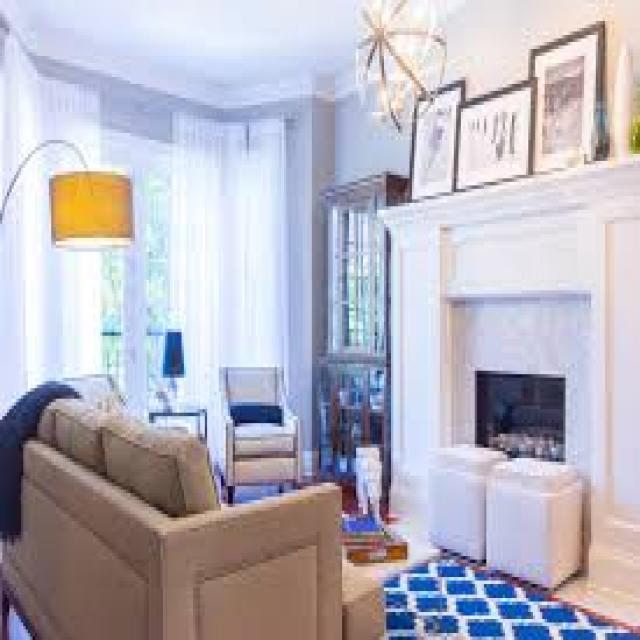Chair: (207, 340, 303, 499)
Lamp: (2, 123, 136, 277)
Sofa: (4, 381, 353, 640)
